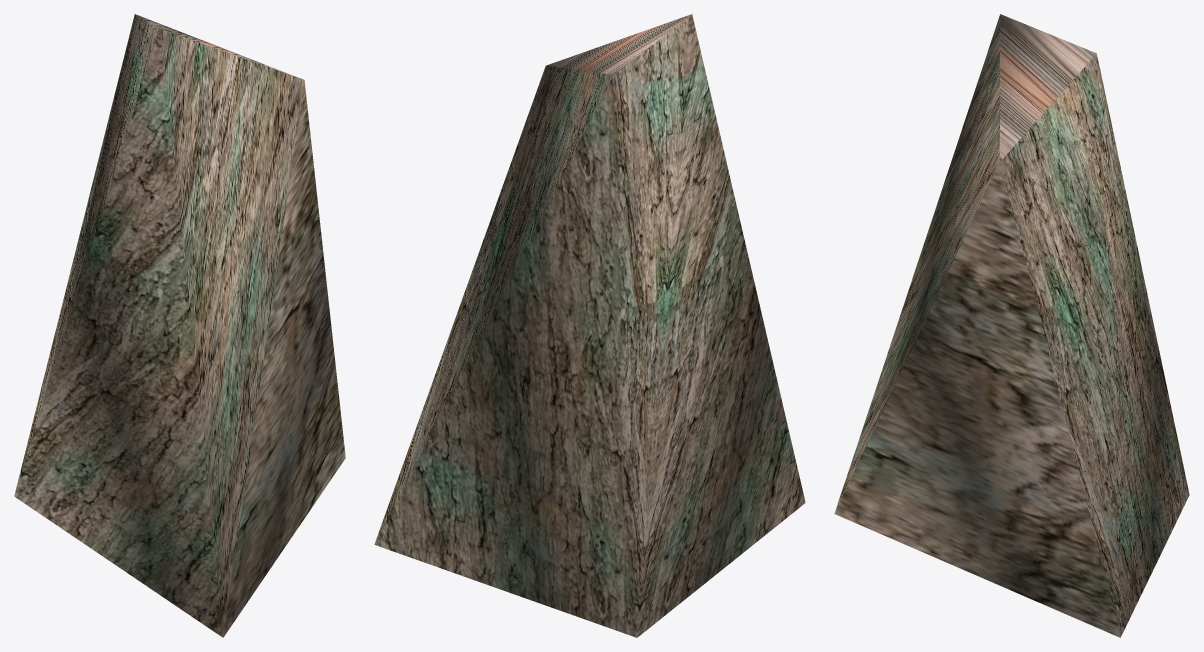
File: decd_dogwoodstump_l3.fbx
The picture shows the model from 3 angles, left to right: view 1: azimuth 30°, elevation 25°; view 2: azimuth 150°, elevation 25°; view 3: azimuth 270°, elevation 25°; orthographic projection. The views are drawn at different scales.
Parts seen in each view (by area): view 1: mesh_node; view 2: mesh_node; view 3: mesh_node.
Part boxes in pixels (bbox=[...]): mesh_node: bbox=[14, 14, 345, 637]; mesh_node: bbox=[374, 14, 805, 637]; mesh_node: bbox=[834, 14, 1189, 637].
Bounding box in the file's own units: 0.4205 × 0.7344 × 0.4626.
